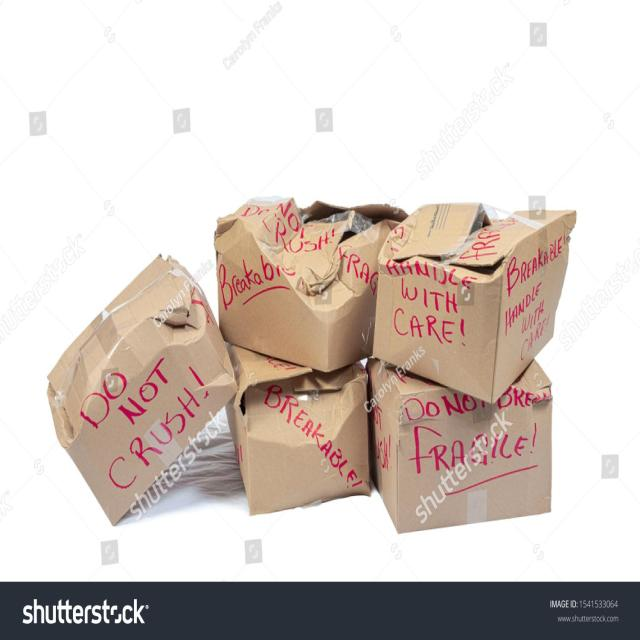Garbage: (38, 246, 240, 526), (373, 192, 586, 400), (198, 186, 415, 380), (368, 352, 561, 538), (206, 330, 382, 521)
